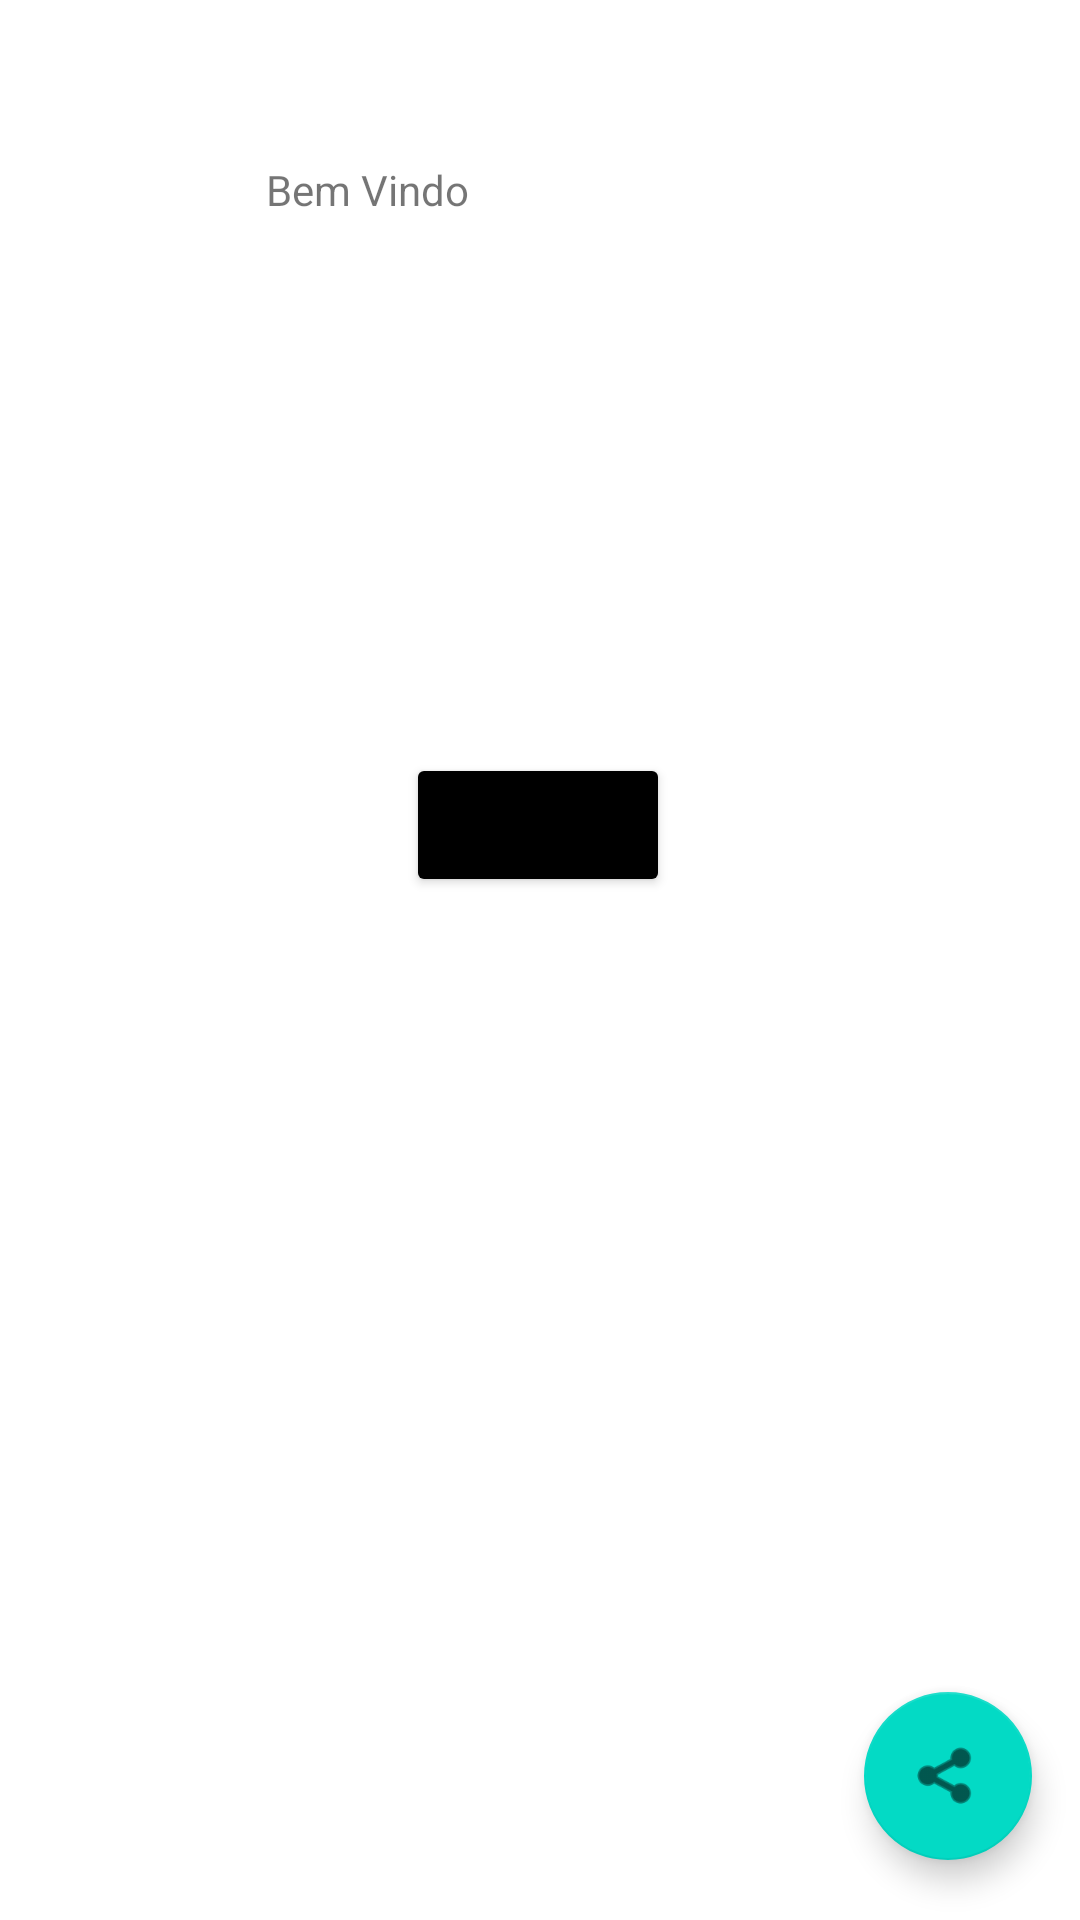

Icon click points for this 1080px x 1920px phone screenshot, format (x,y):
share: (948,1776)
